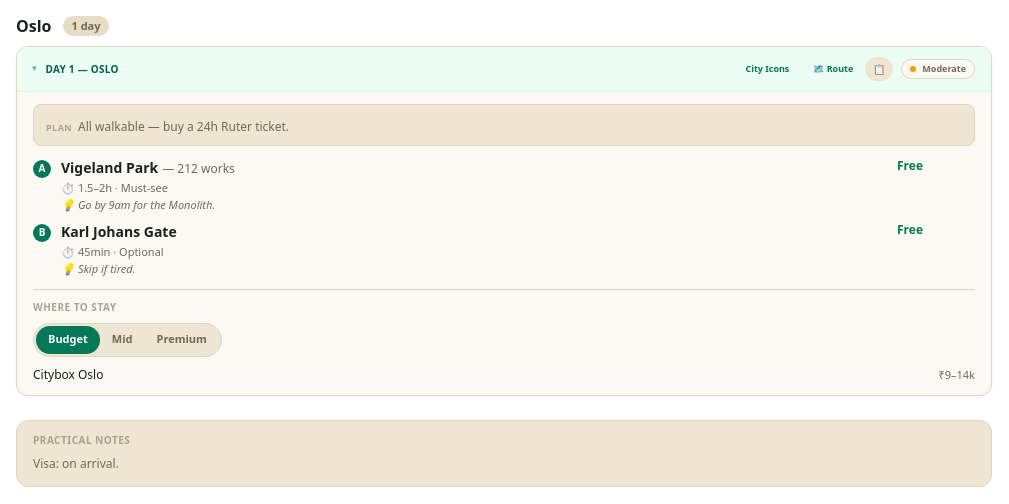
Test: ItineraryView — enriched feasibility pattern › shows tiered Where-to-stay tabs and switches the shown stay on tab change
Expected: the text "Where to stay" is shown, top-left (33, 300), bottom-right (116, 314)
Expected: the link "Citybox Oslo" is shown, top-left (33, 366), bottom-right (104, 382)
Step 1. Click the tab "Premium" → (182, 340), box top-left (144, 326), bottom-right (219, 354)
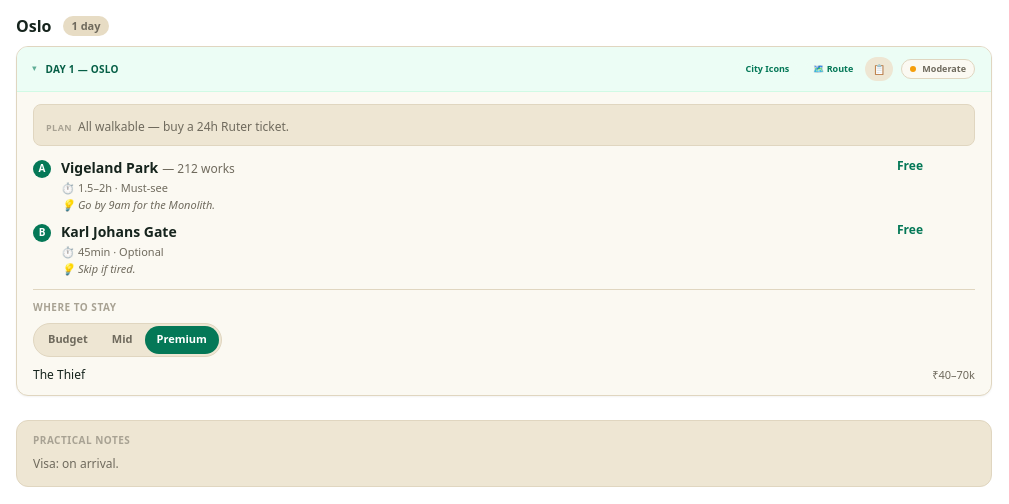
Result: the link "The Thief" is shown at top-left (33, 366), bottom-right (85, 382)
Result: the link "Citybox Oslo" is gone
